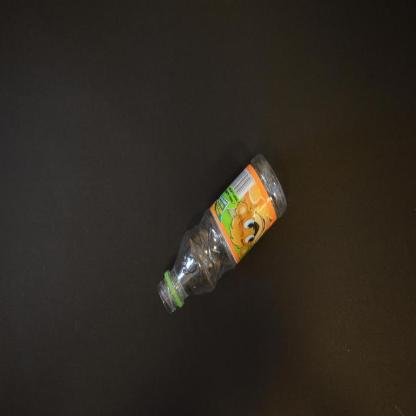Plastic Bottle: (158, 155, 288, 313)
